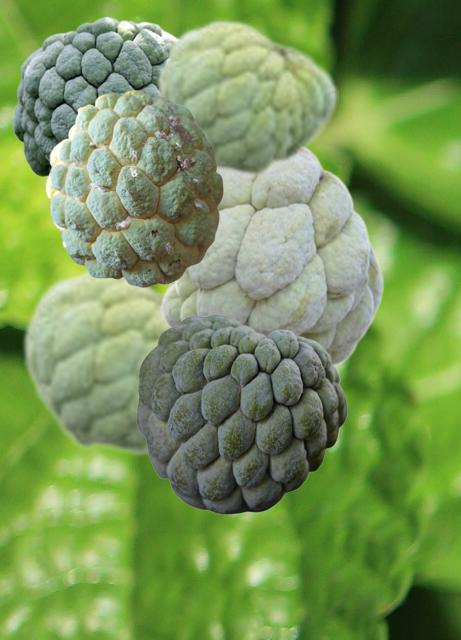atis: (160, 148, 383, 367), (136, 314, 346, 513), (45, 90, 222, 286), (155, 17, 337, 178), (20, 267, 167, 457), (12, 16, 174, 177)
